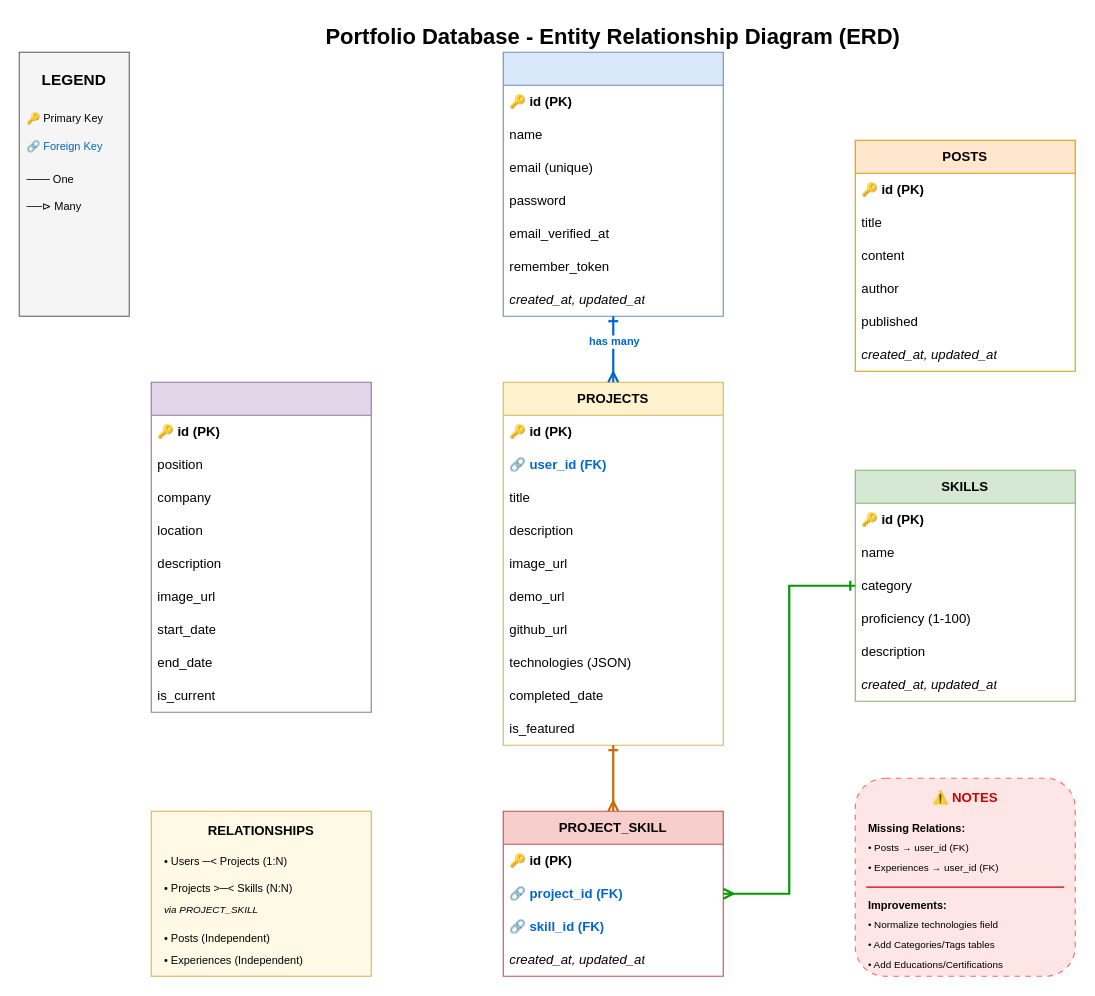
This 1095x996 diagram has some shape labels left out. Here are the shapes that lost their labels. From the top down, the box of each, then its label:
(502, 51, 723, 316): USERS
(150, 381, 371, 712): EXPERIENCES
